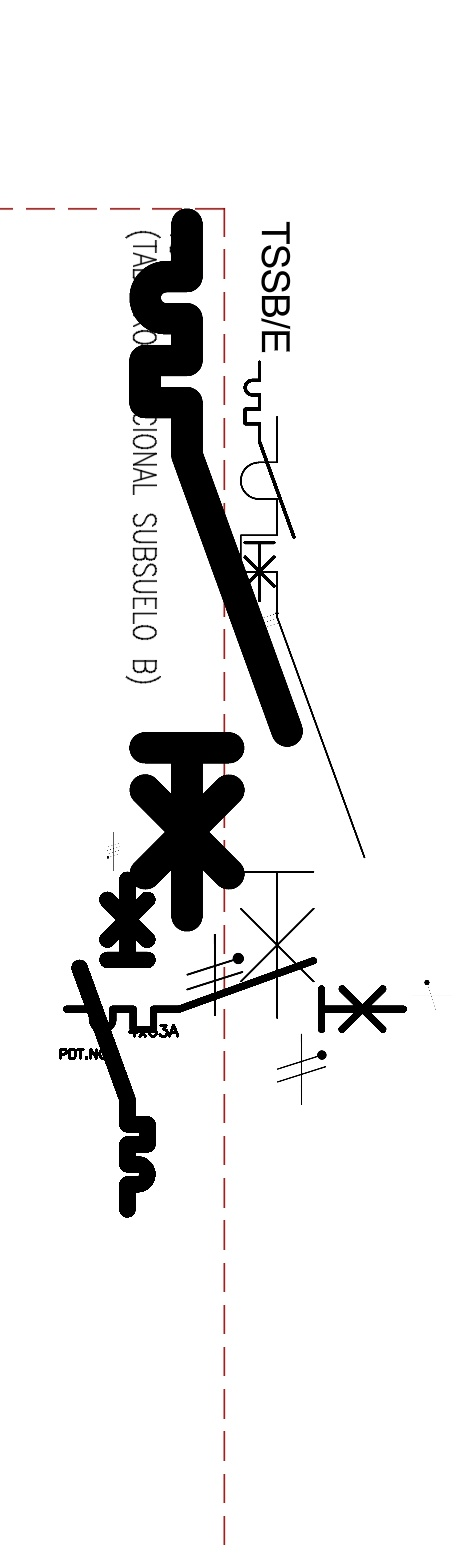interruptor_termomagnetico: (127, 206, 305, 934), (225, 401, 380, 1033), (58, 952, 412, 1038), (71, 871, 156, 1218), (239, 356, 300, 607)
